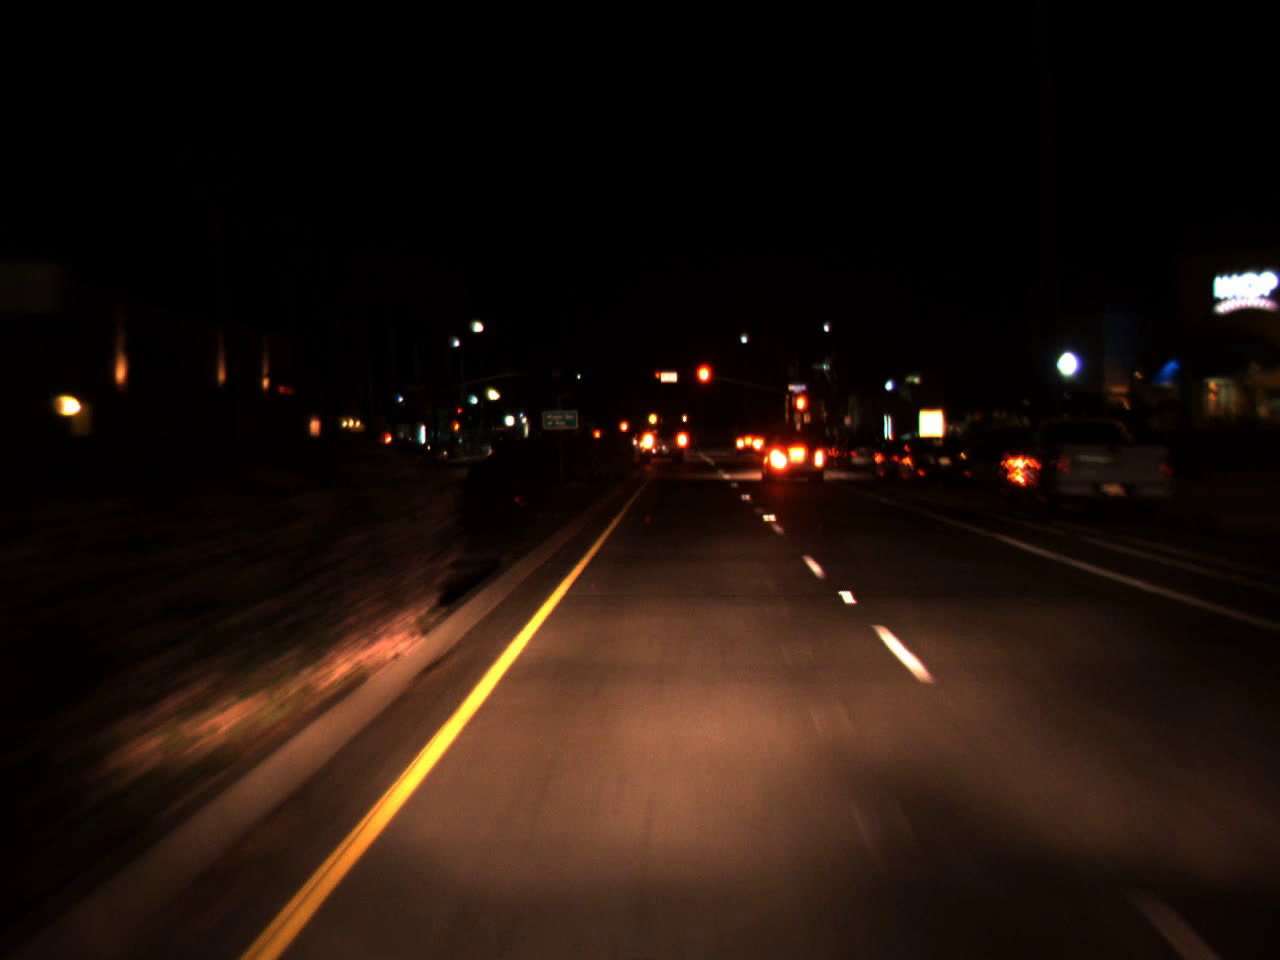stop: (693, 362, 714, 405), (793, 392, 809, 429), (655, 371, 661, 384), (457, 407, 463, 417)
